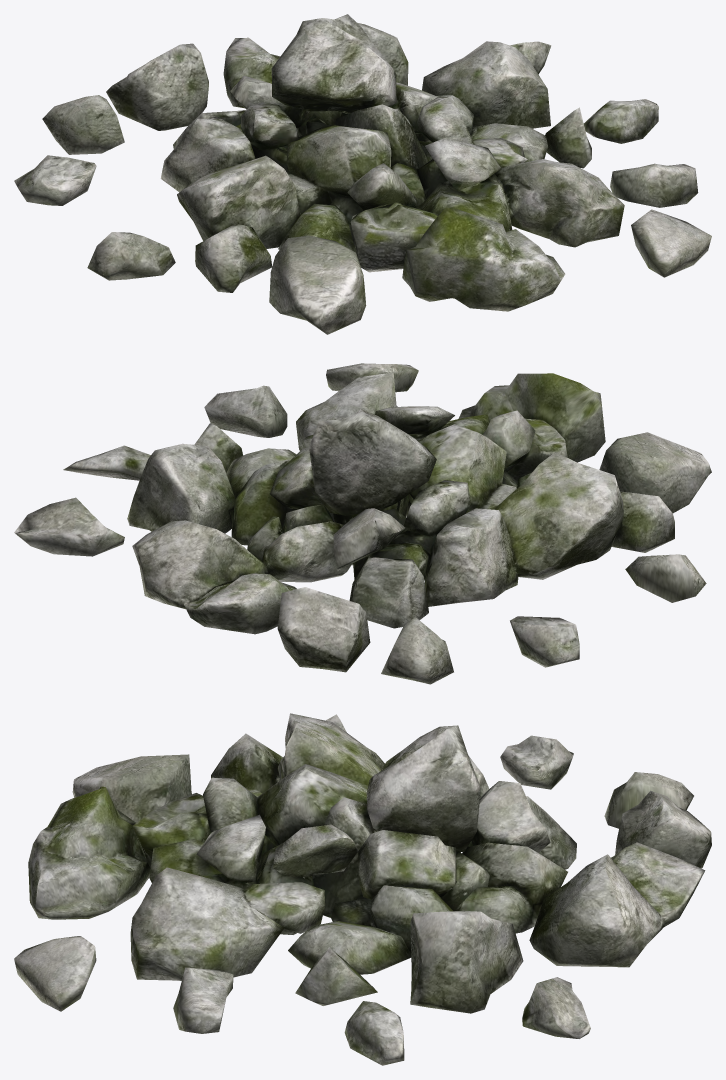
Rendered from kw_rocks2.glb.
The picture shows the model from 3 angles, top to bottom: view 1: azimuth 30°, elevation 25°; view 2: azimuth 150°, elevation 25°; view 3: azimuth 270°, elevation 25°; orthographic projection. The views are drawn at different scales.
Visible parts, largest first — view 1: frame; view 2: frame; view 3: frame.
Part boxes in pixels (x1,y1,x2,y2): frame: (14, 14, 711, 334); frame: (14, 363, 711, 684); frame: (14, 713, 711, 1065).
Size of the model in its own units: 4 by 1.01 by 3.7.
1 material, 1 textured.
